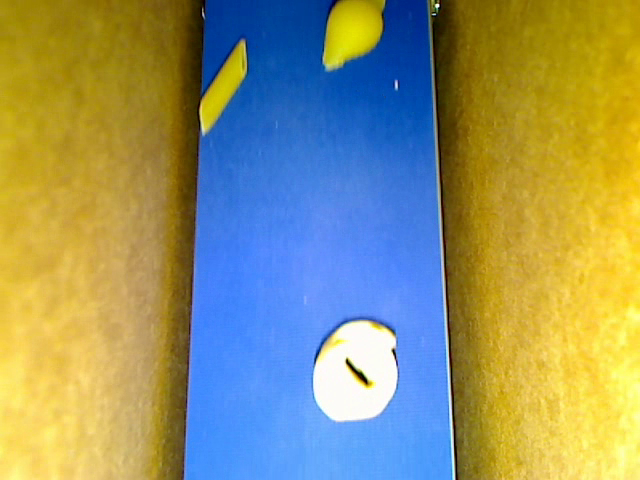penne: (198, 37, 246, 134)
shell: (321, 1, 384, 71)
tortellini: (311, 319, 398, 421)
